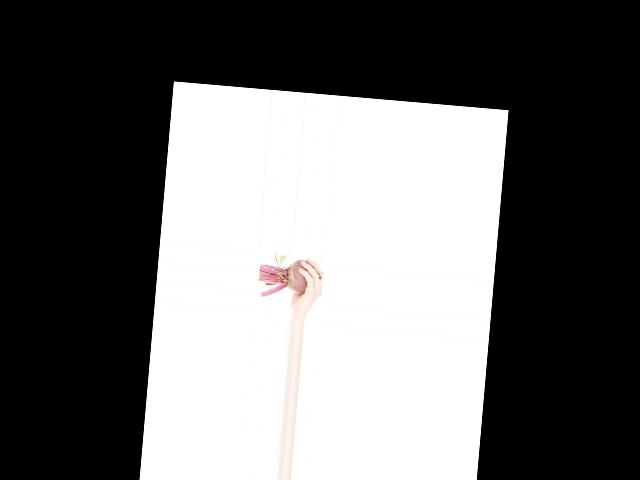beet: (257, 251, 324, 301)
